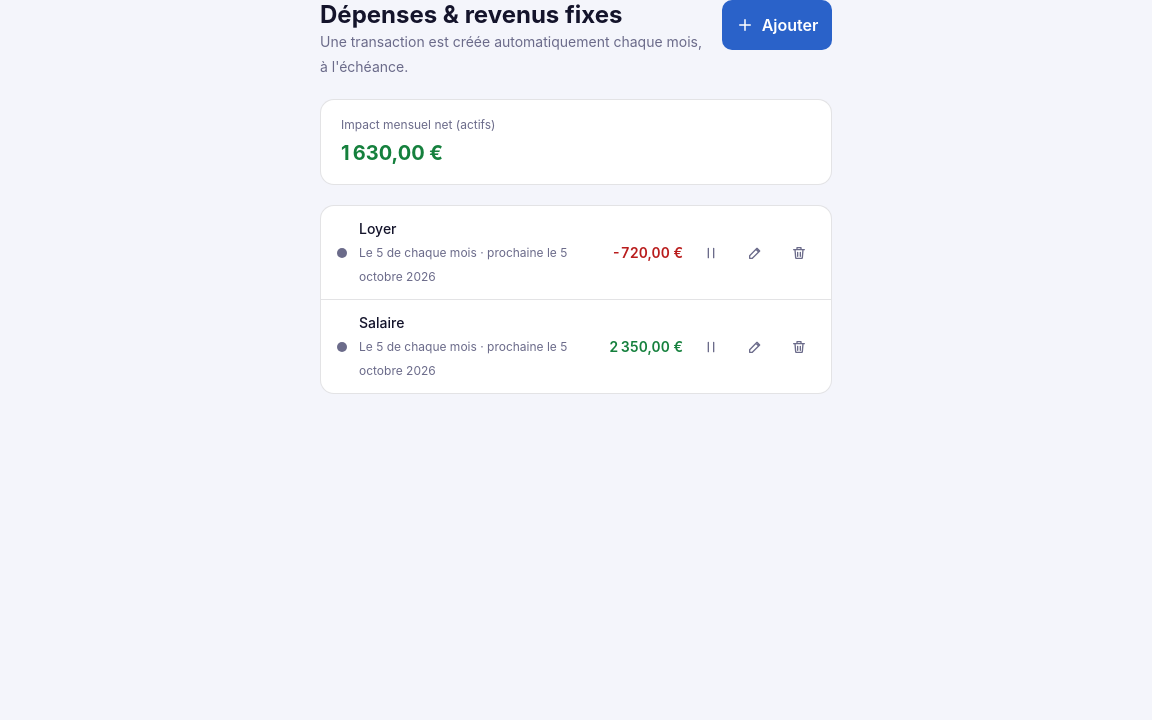
RecurringPage — édition › « Annuler » referme la modale sans rien enregistrer
The width and height of the screenshot is (1152, 720).
Click the button named "Modifier Loyer" at [755, 252], box [739, 236, 771, 268]
(page scrolled)
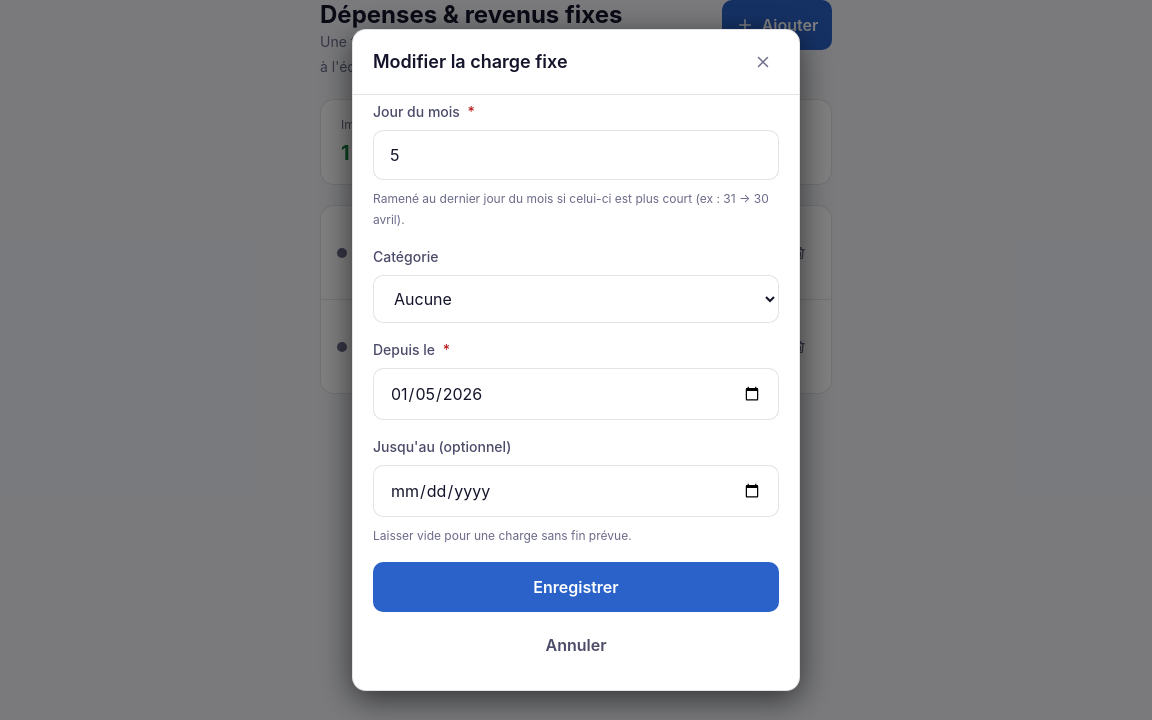
Click the button "Annuler" at [576, 645], box [373, 620, 779, 670]
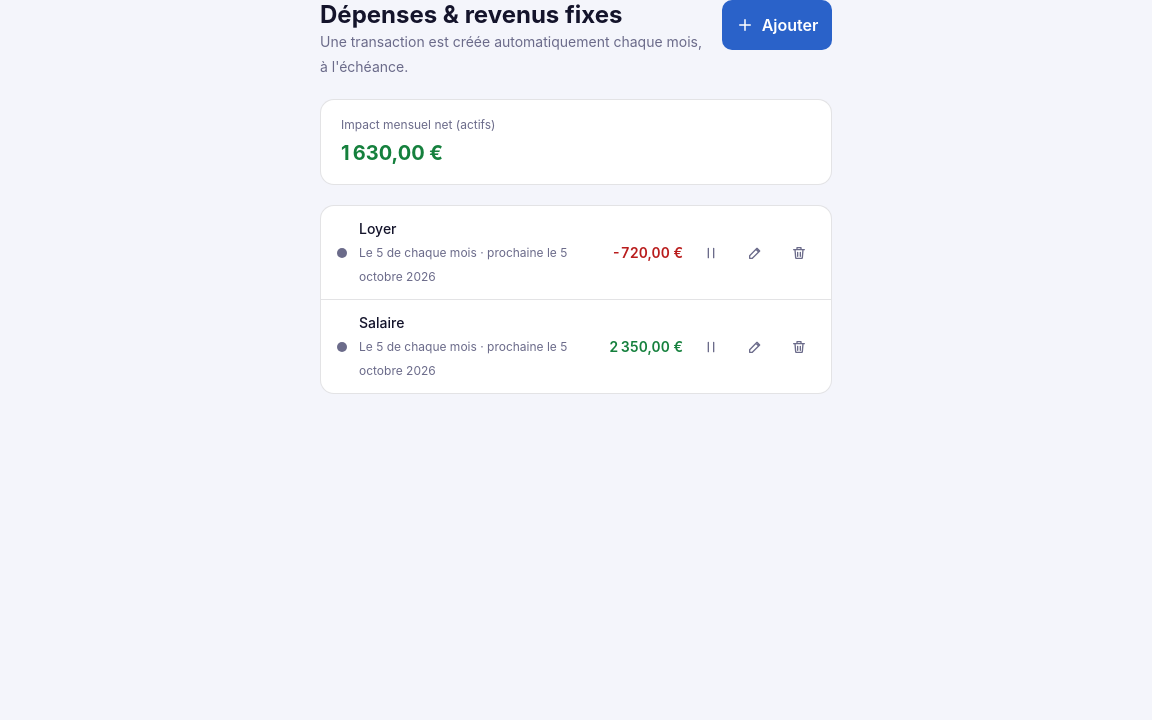
Expected: the dialog is gone
